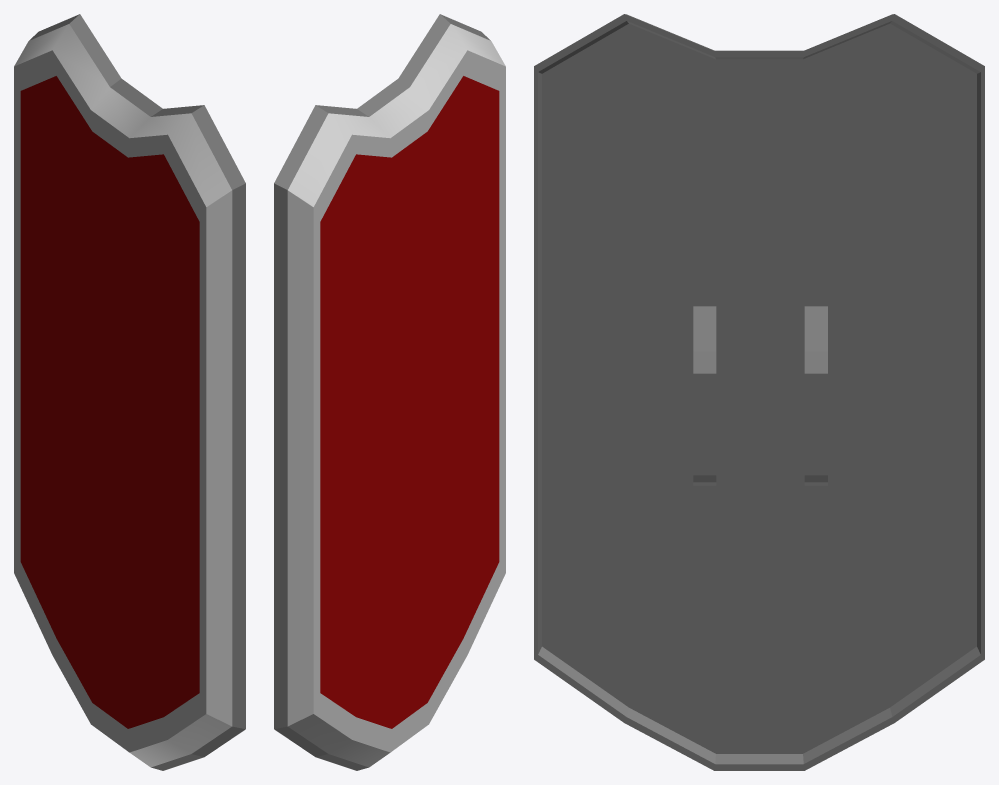
The model's file is Shield.fbx.
3 renders of one model, left to right at view 1: azimuth 30°, elevation 25°; view 2: azimuth 150°, elevation 25°; view 3: azimuth 270°, elevation 25°, orthographic. The views are drawn at different scales.
Visible parts, largest first — view 1: Shield1; view 2: Shield1; view 3: Shield1.
Part boxes in pixels (<box>): Shield1: <box>14,14,245,770</box>; Shield1: <box>274,14,505,770</box>; Shield1: <box>534,14,984,770</box>.
Size of the model in its own units: 33.96 by 287 by 155.
